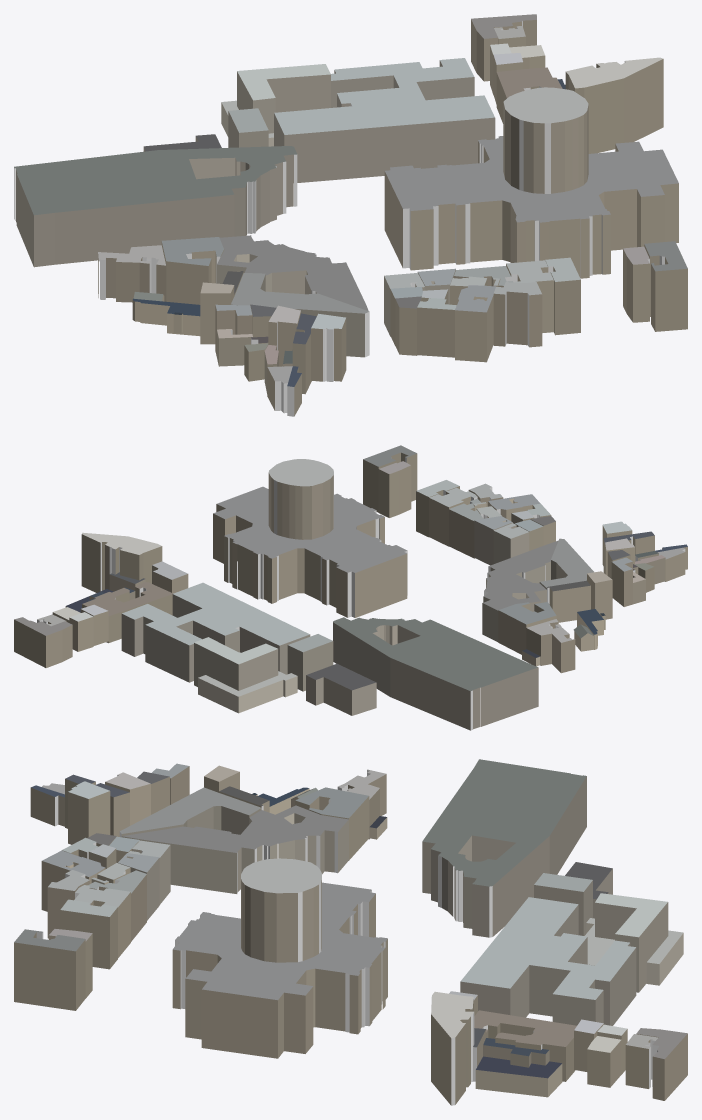
The picture shows the model from 3 angles, top to bottom: view 1: azimuth 30°, elevation 25°; view 2: azimuth 150°, elevation 25°; view 3: azimuth 270°, elevation 25°; orthographic projection. The views are drawn at different scales.
Parts seen in each view (by area): view 1: tuile; view 2: tuile; view 3: tuile.
Boxes of the visible parts, x1,y1,x2,y2 form: tuile: (14, 14, 687, 416); tuile: (14, 445, 687, 730); tuile: (14, 759, 687, 1105).
Size of the model in its own units: 282 by 61.58 by 272.
